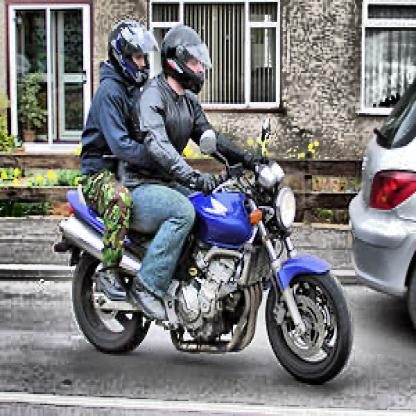wear: (163, 23, 206, 99), (108, 18, 147, 82)
